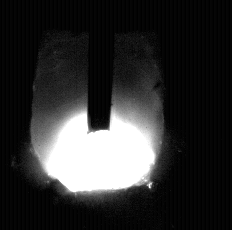arame: (88, 0, 112, 133)
poca: (29, 0, 165, 230)
